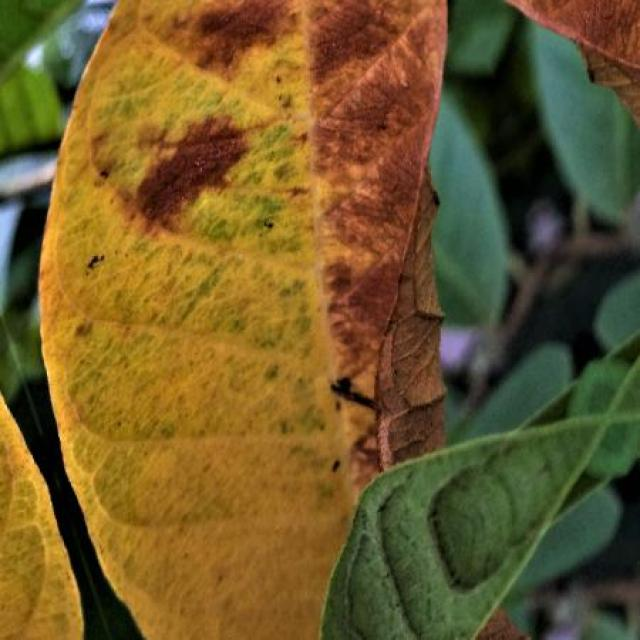Red Rust: (42, 0, 446, 640)
